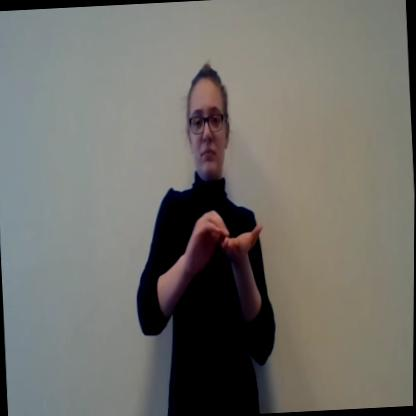ExcuseMe: (121, 60, 283, 416)
